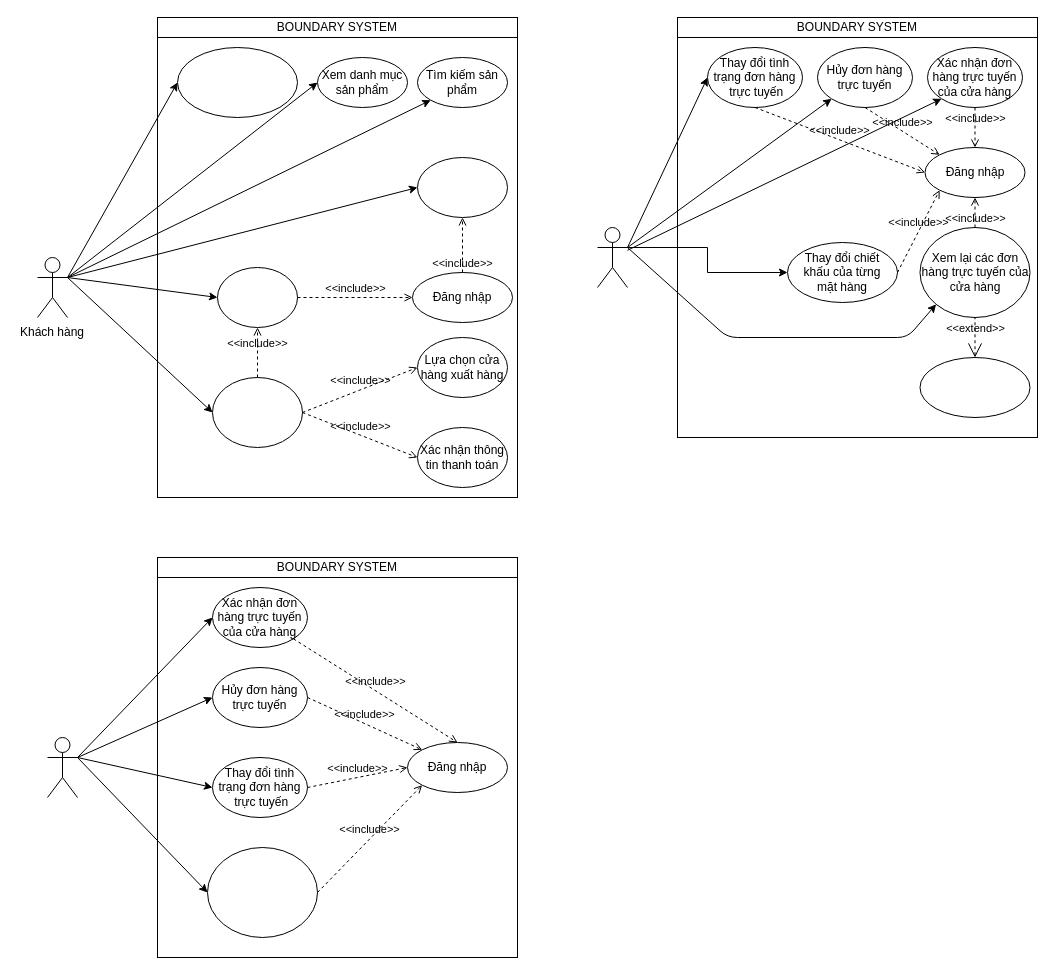
This 1055x975 diagram has some shape labels left out. Each missing label, with the centre of its shape:
Nhân viên: (62,767)
Quản lý cửa hàng: (612,257)
Thanh toán sản phẩm trong giỏ hàng: (257,412)
Thêm sản phẩm vào giỏ hàng: (257,297)
Tạo báo cáo về các đơn hàng trực tuyến: (974,387)
Xem lại các đơn hàng trực tuyến mình đã thực hiện: (262,892)
Xem sản phẩm và thông tin chi tiết sản phẩm: (237,82)
Đăng ký thành viên: (462,187)
